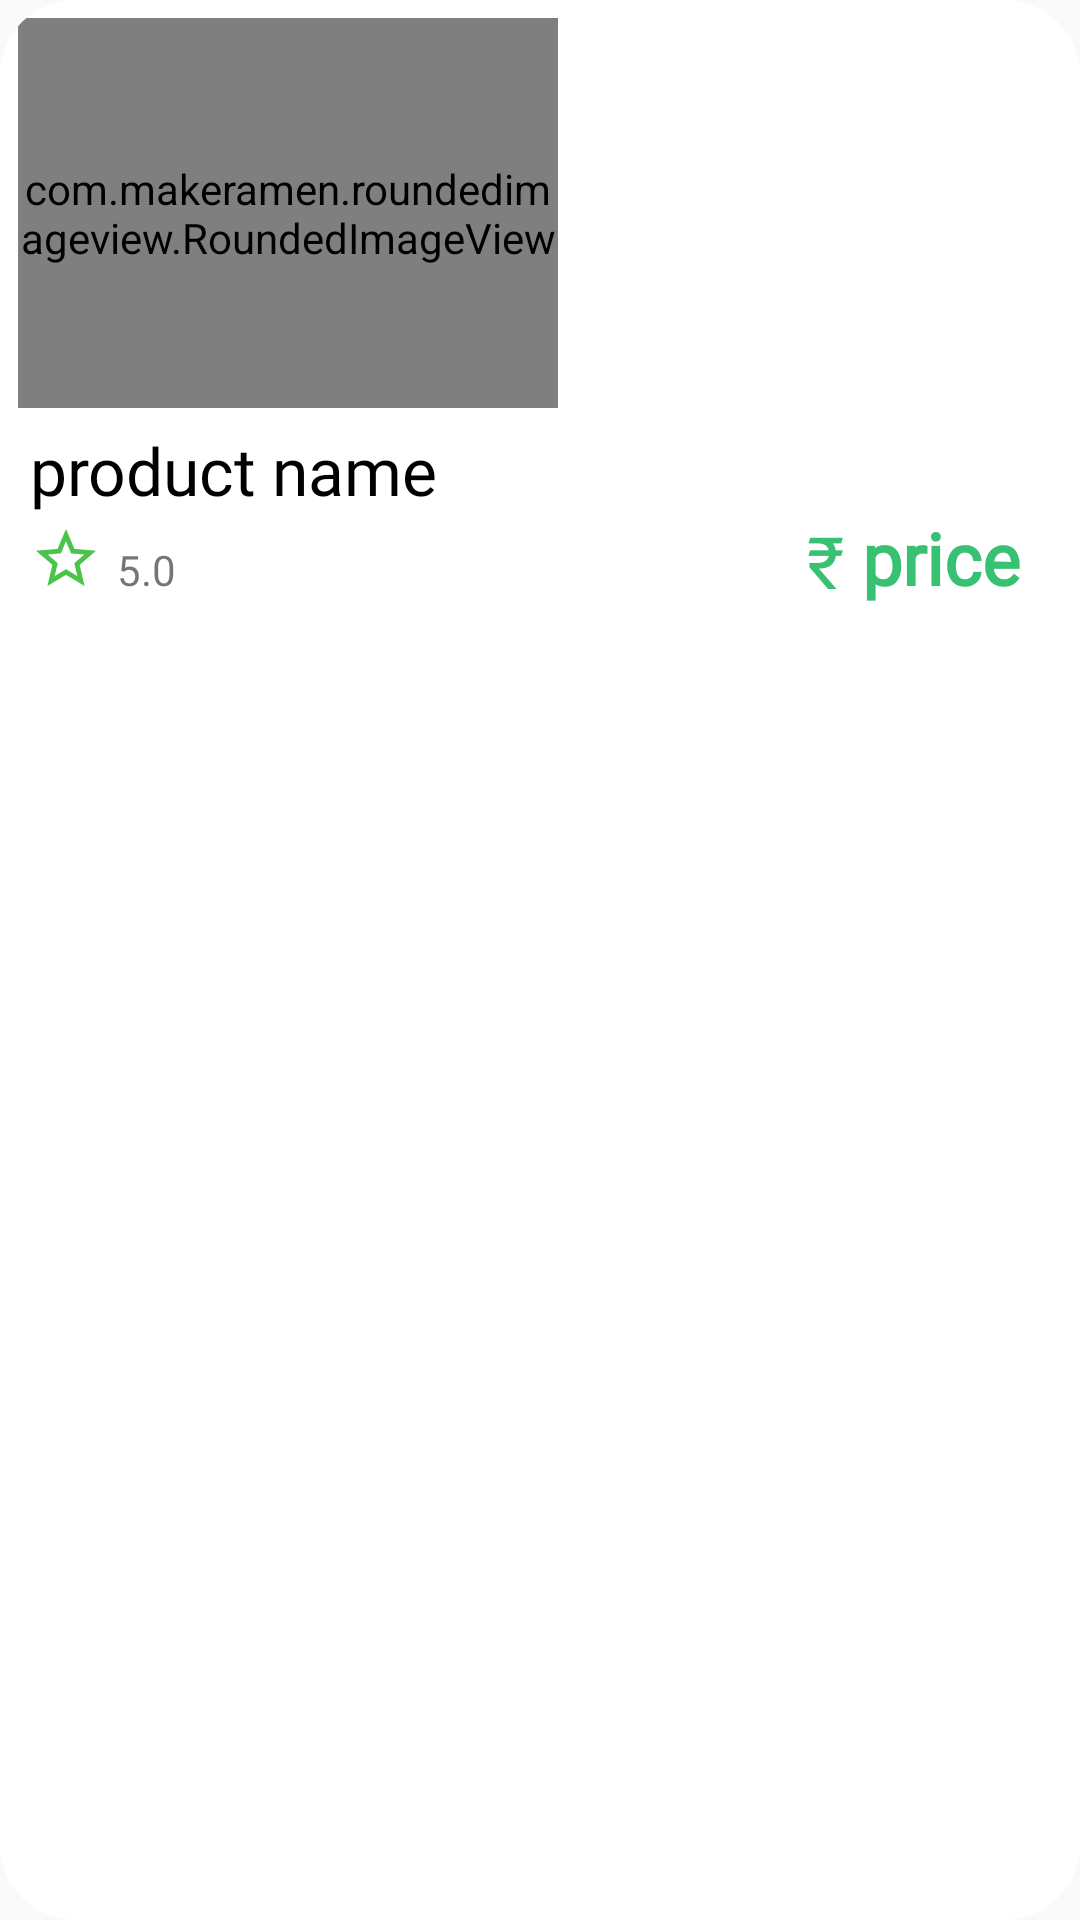

Point at icon controls on the screen. Image size 1080 x 1920, points as (x=x, y=y).
star border: (x=66, y=557)
